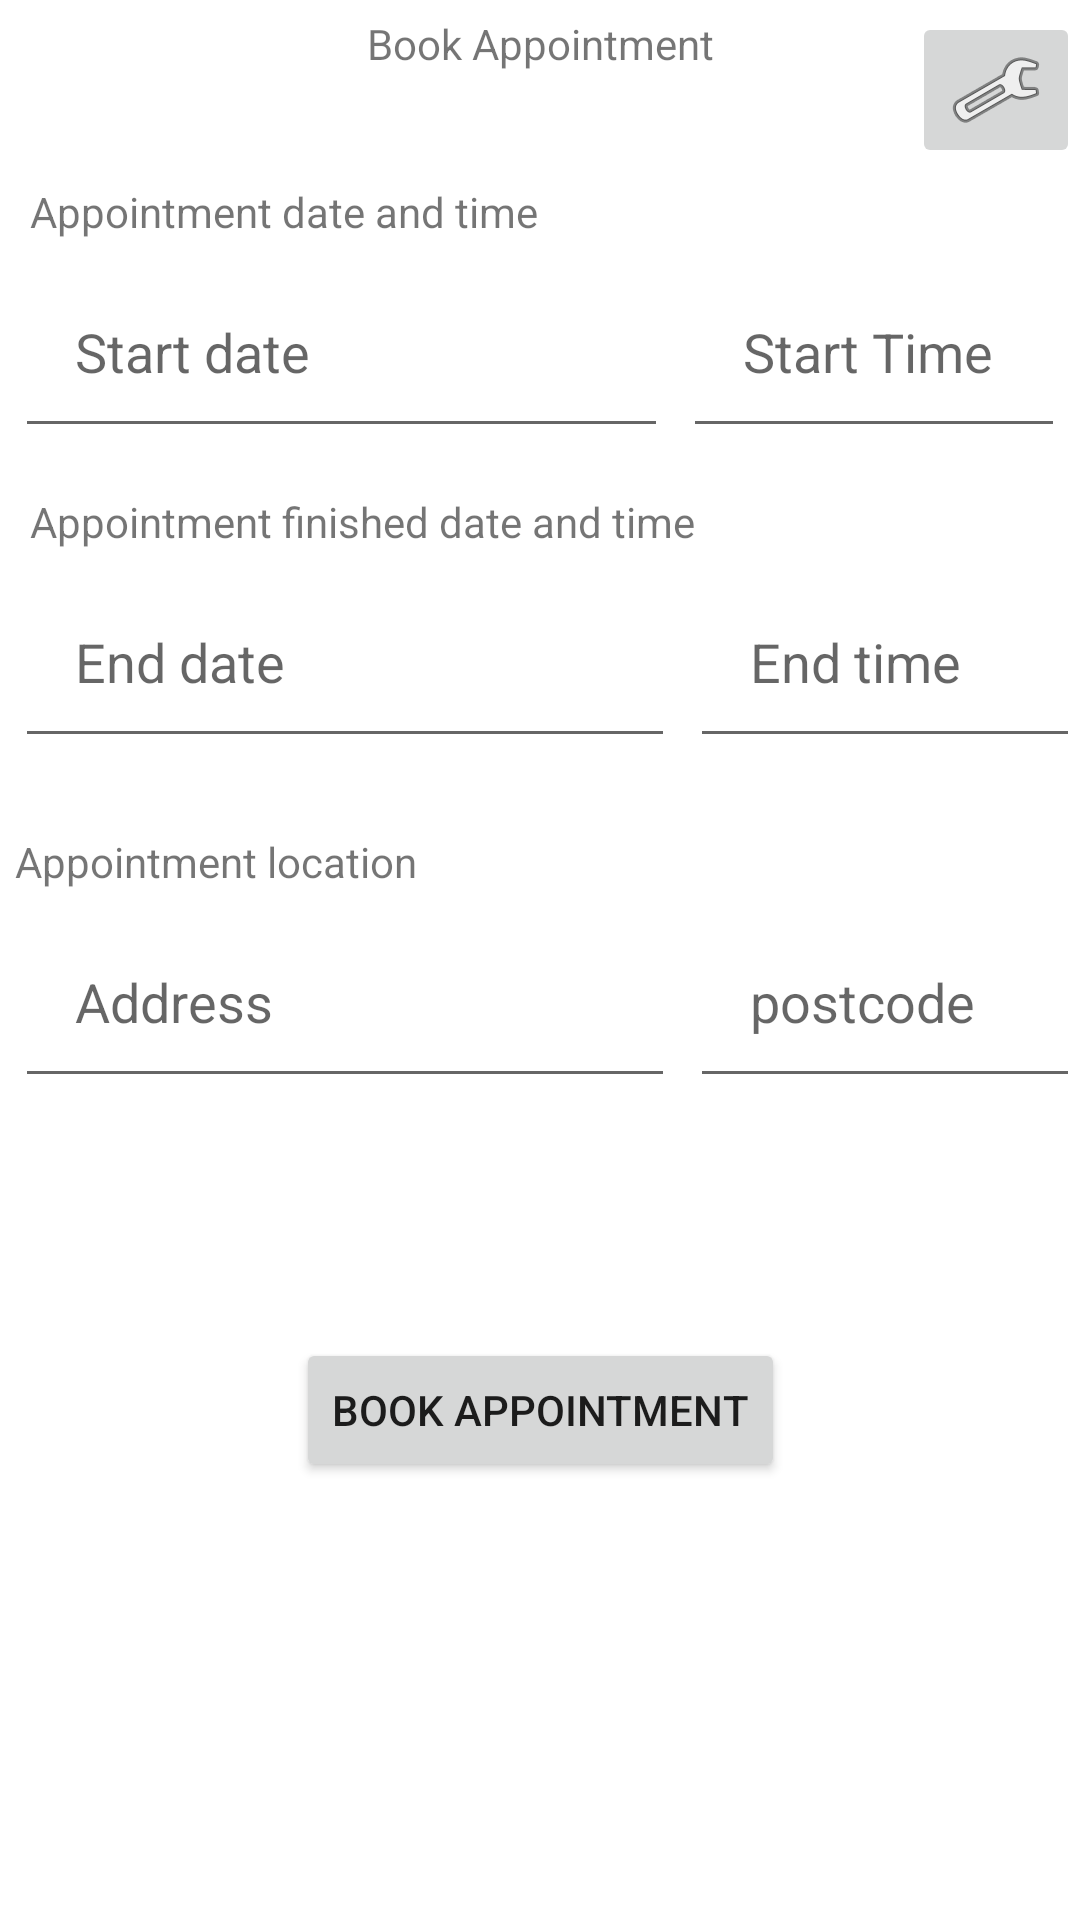

Screen size 1080*1920. Icon name, then its center in pixels as (x=x, y=y):
manage: (x=996, y=90)
